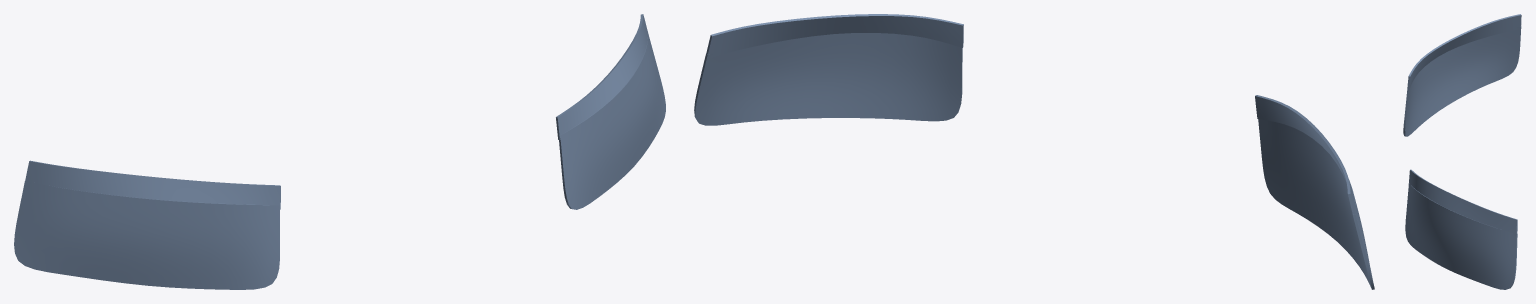
The model's file is SM_CarlosSA_Jacket_WaistPockets_StraightFlap.fbx.
3 views of the same model, side by side, from view 1: azimuth 30°, elevation 25°; view 2: azimuth 150°, elevation 25°; view 3: azimuth 270°, elevation 25° (orthographic). The views are drawn at different scales.
Parts seen in each view (by area): view 1: SM_CarlosSA_Jacket_WaistPockets_StraightFlap; view 2: SM_CarlosSA_Jacket_WaistPockets_StraightFlap; view 3: SM_CarlosSA_Jacket_WaistPockets_StraightFlap.
Boxes of the visible parts, x1,y1,x2,y2 form: SM_CarlosSA_Jacket_WaistPockets_StraightFlap: (14,14,665,289); SM_CarlosSA_Jacket_WaistPockets_StraightFlap: (694,14,1374,289); SM_CarlosSA_Jacket_WaistPockets_StraightFlap: (1403,14,1521,289).
Size of the model in its own units: 0.3377 by 0.0529 by 0.0773.
